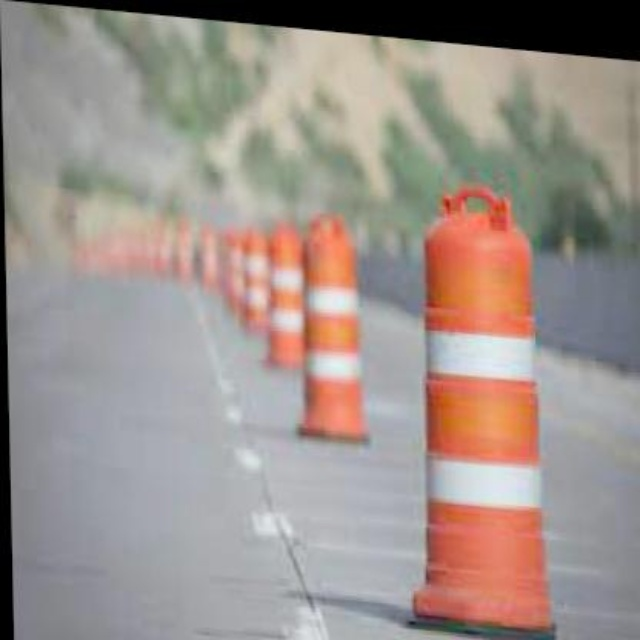obstacle: (406, 198, 545, 616), (295, 213, 357, 434)
